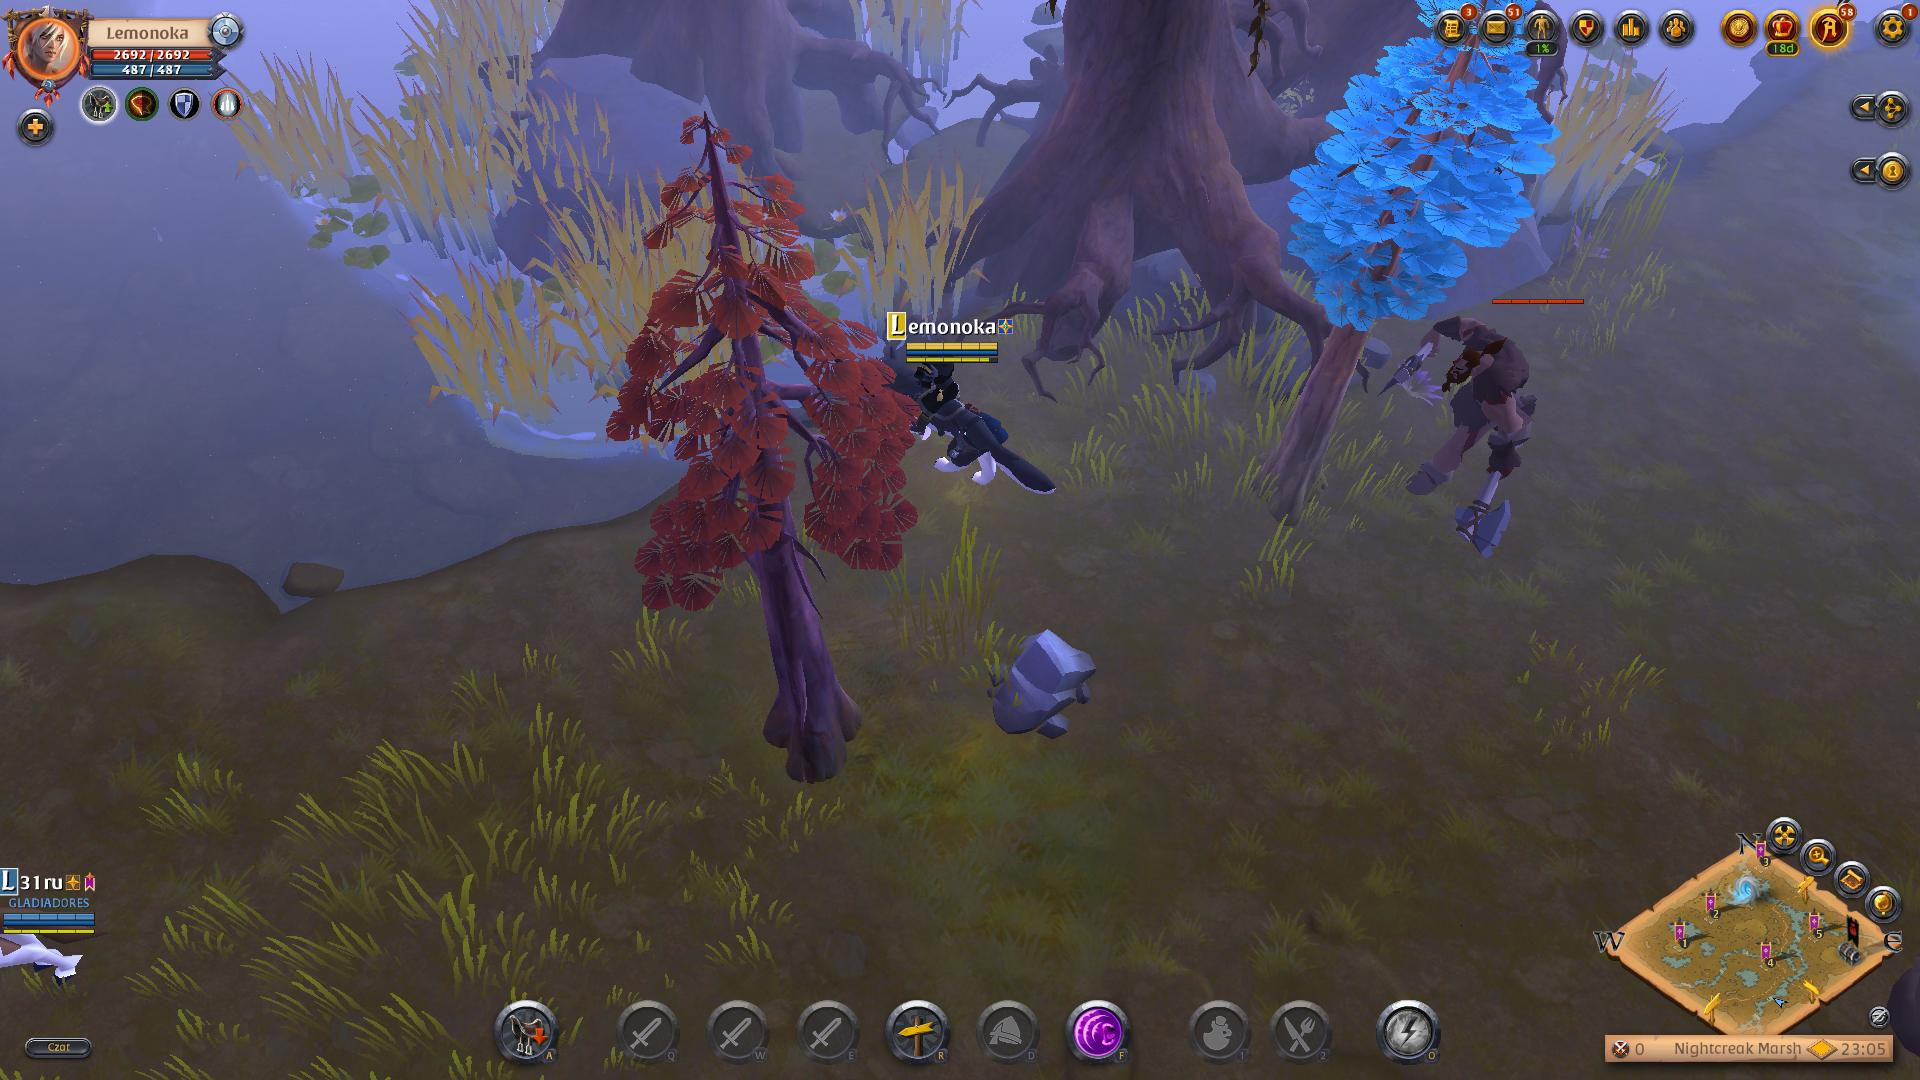rock tier 1: (985, 618, 1104, 746)
wood tier 4: (1284, 63, 1560, 352)
wood tier 5: (605, 108, 922, 613)
